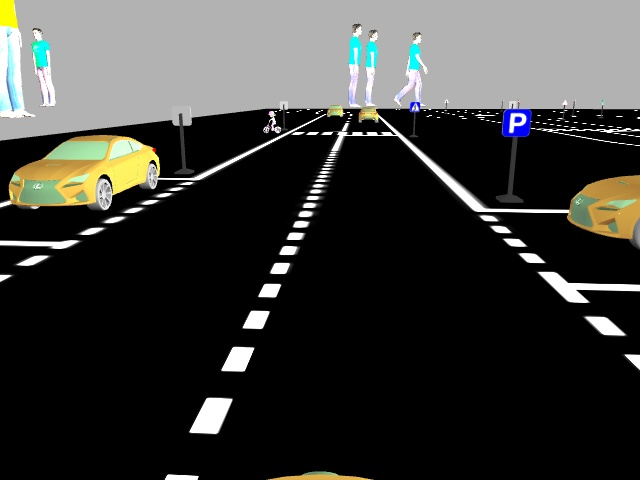Parking: (499, 106, 533, 138)
